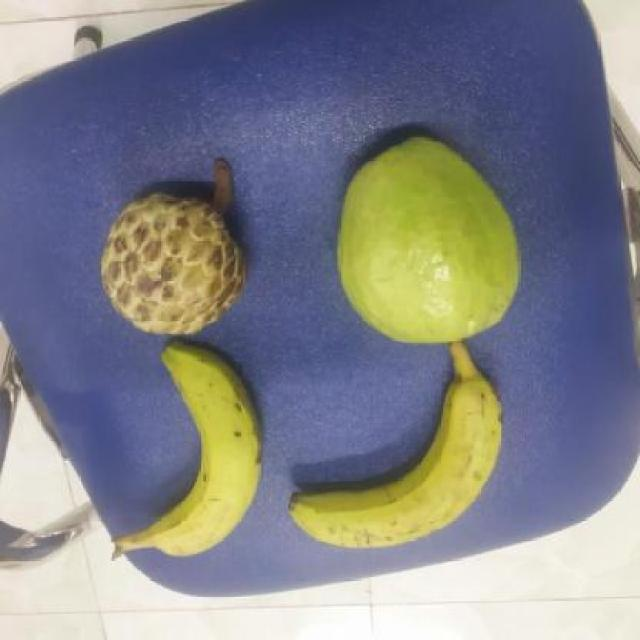banana: (279, 356, 507, 555), (124, 341, 268, 564)
guava: (330, 132, 528, 351)
sugar apple: (96, 189, 250, 340)
